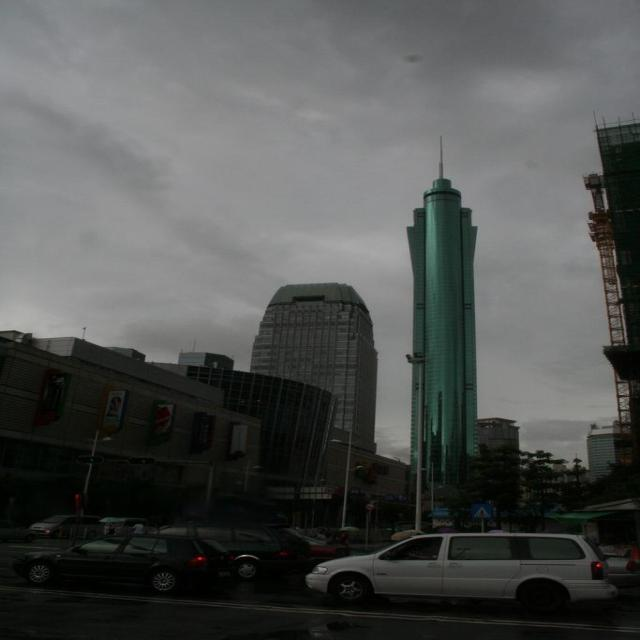car: (294, 523, 624, 623), (7, 530, 268, 600)
